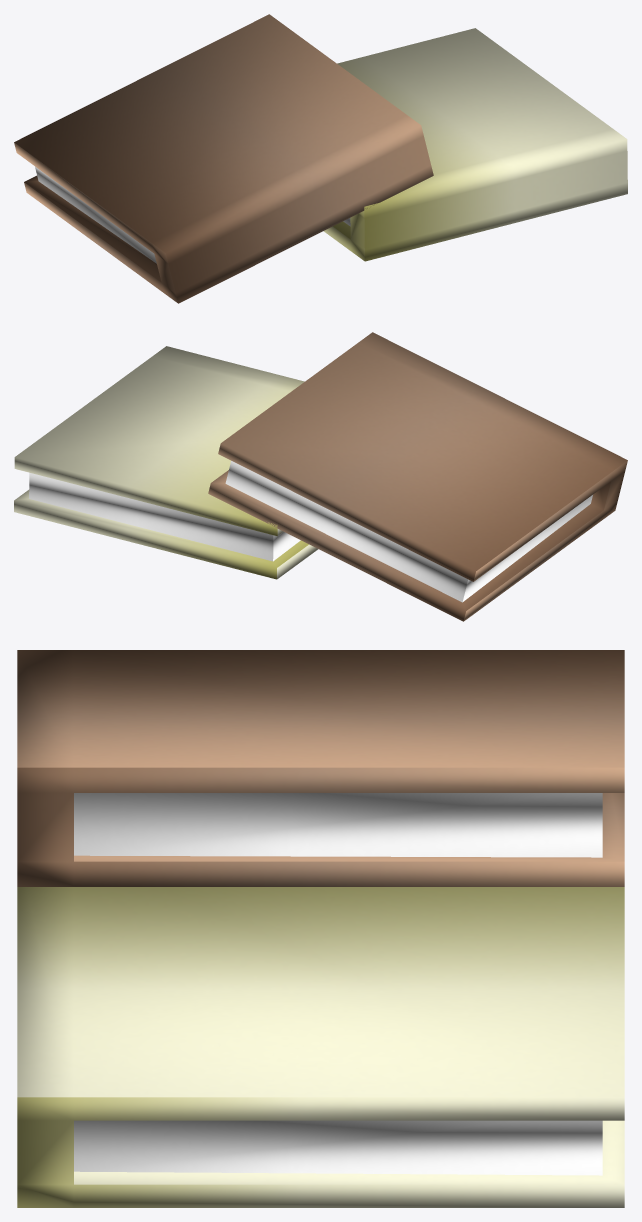
File: Props_Book_06.fbx
The picture shows the model from 3 angles, top to bottom: view 1: azimuth 30°, elevation 25°; view 2: azimuth 150°, elevation 25°; view 3: azimuth 270°, elevation 25°; orthographic projection. The views are drawn at different scales.
Parts seen in each view (by area): view 1: Props_Book_06; view 2: Props_Book_06; view 3: Props_Book_06.
Boxes of the visible parts, bbox=[...] form: Props_Book_06: bbox=[14, 14, 627, 303]; Props_Book_06: bbox=[14, 332, 627, 621]; Props_Book_06: bbox=[17, 650, 624, 1207].
Bounding box in the file's own units: 88.9 × 22.52 × 50.6.
